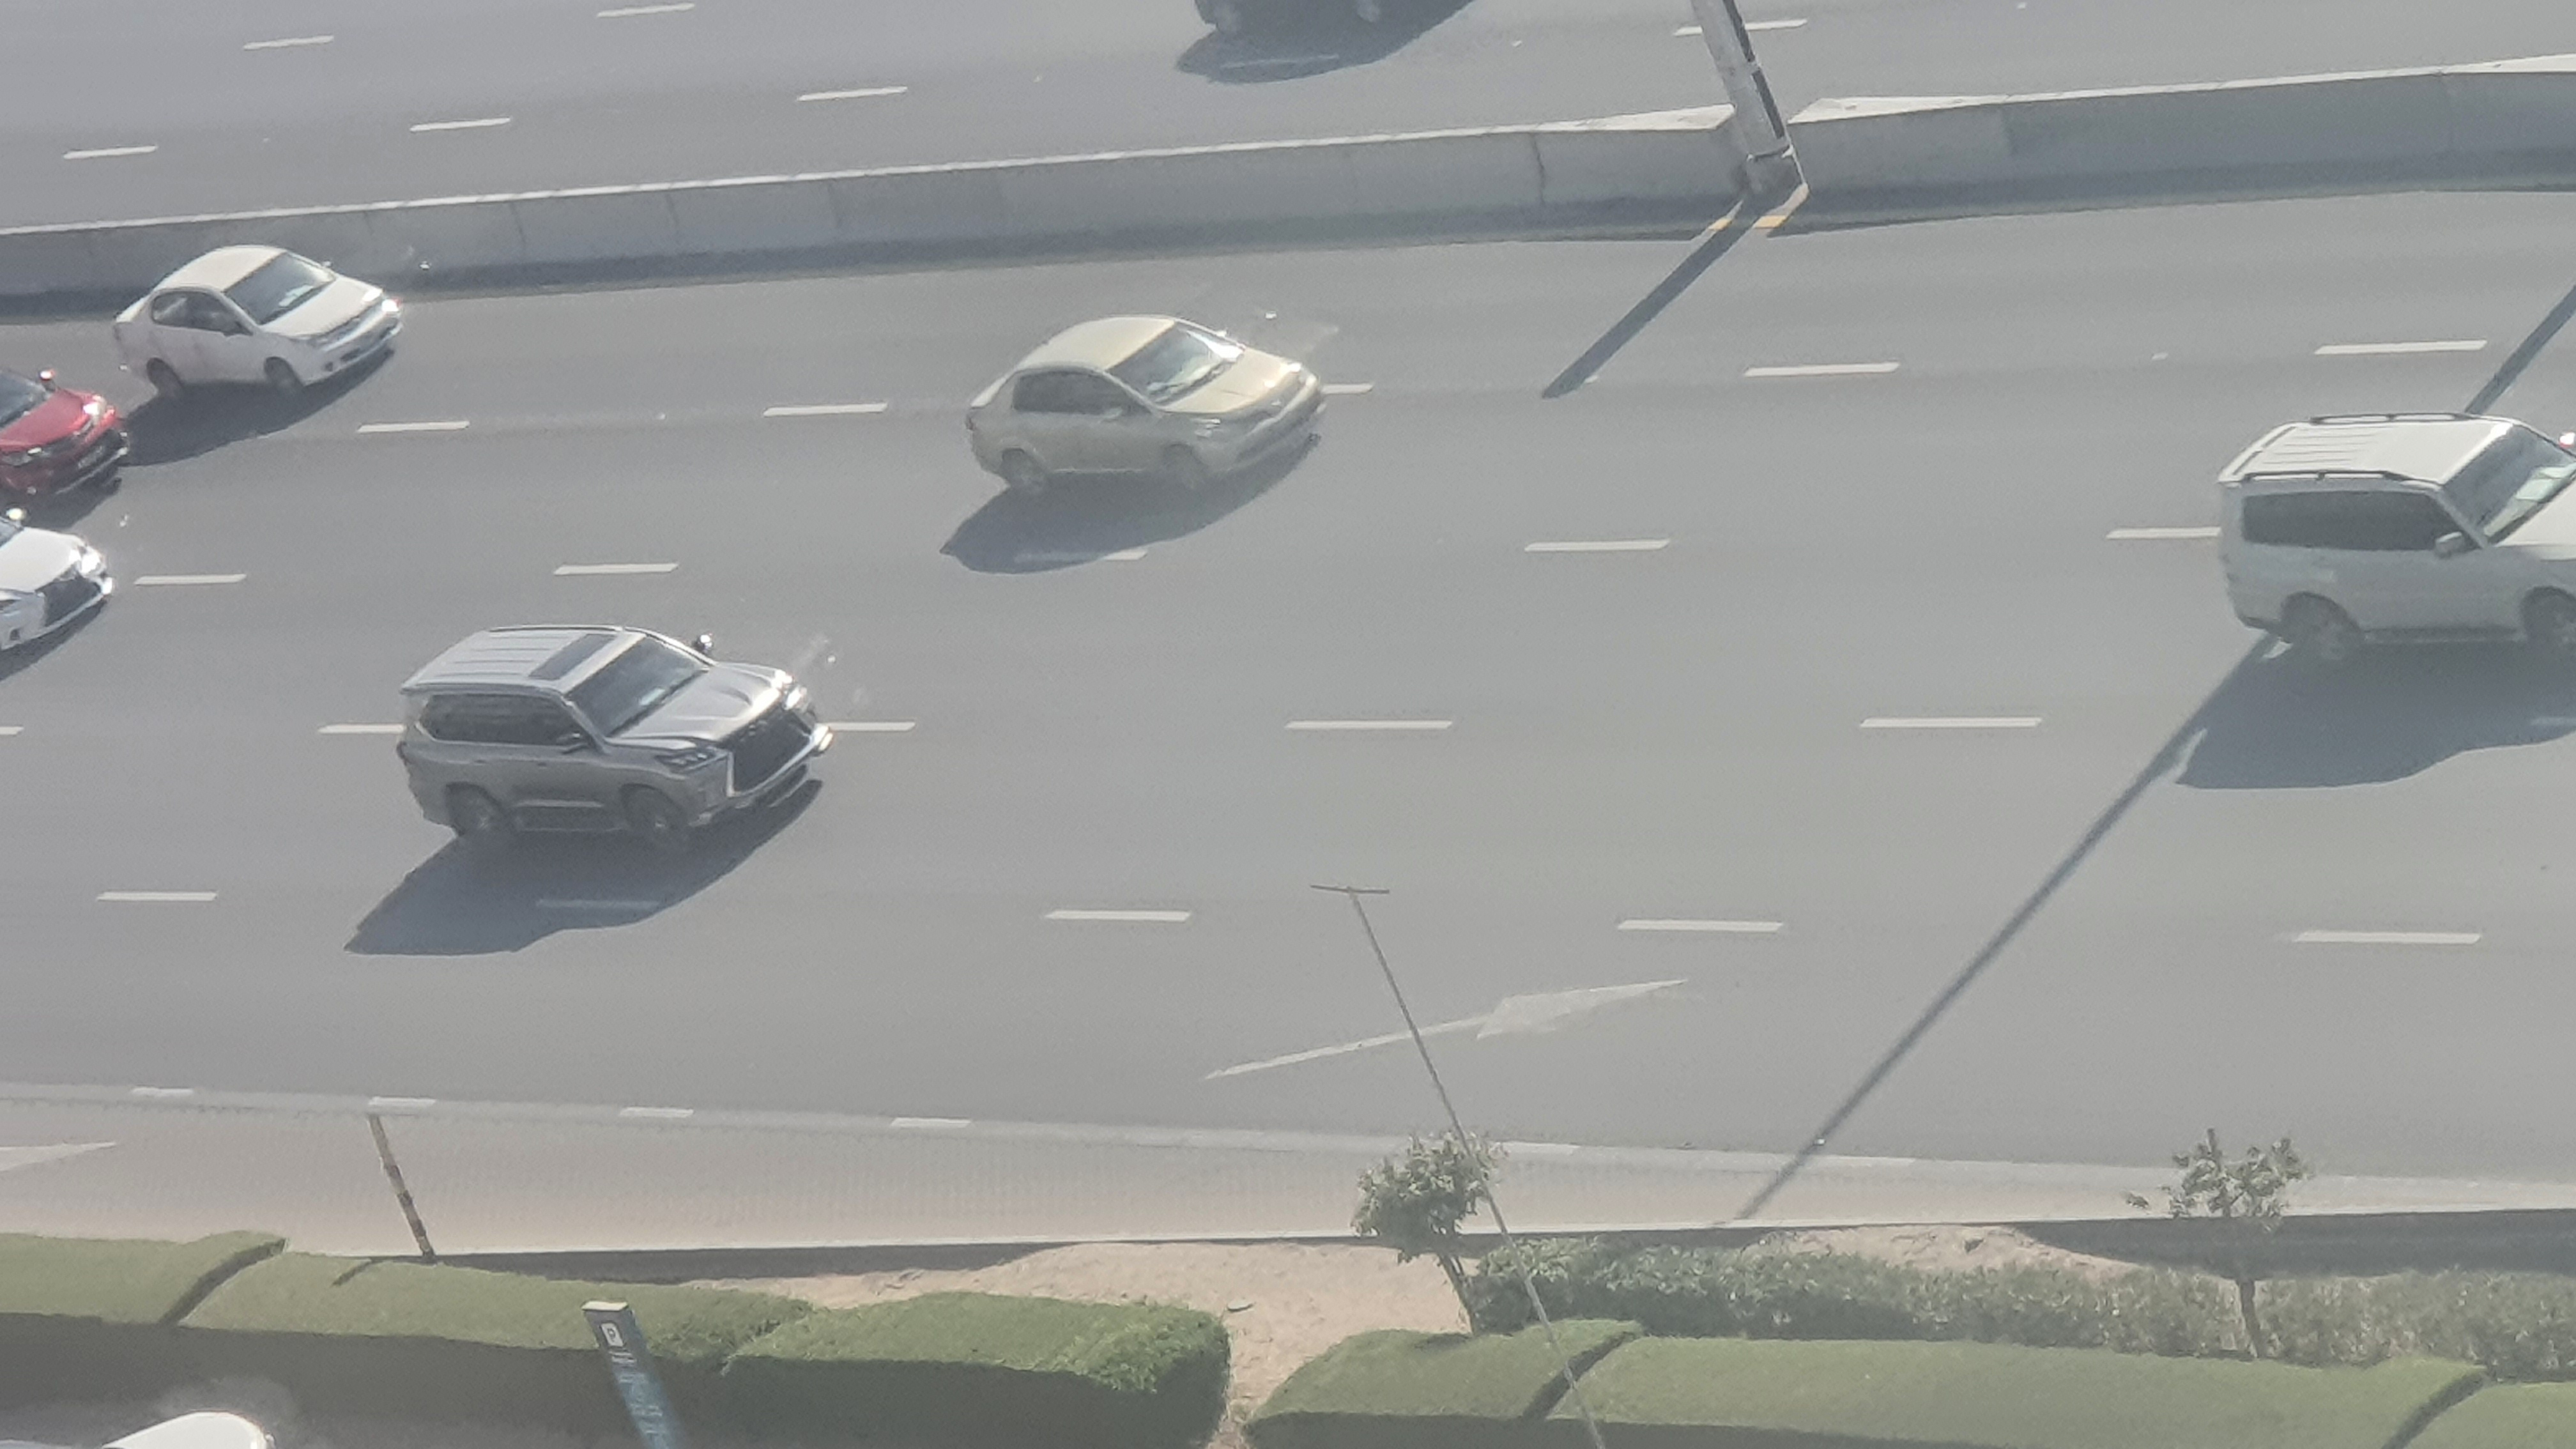NotSunroof: (2222, 398, 2576, 679), (955, 310, 1315, 511), (99, 241, 398, 416)
Sunroof: (375, 617, 828, 876)
